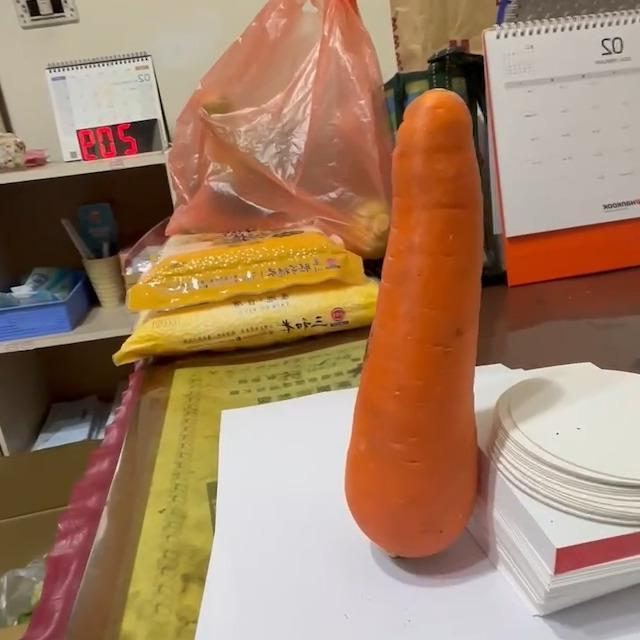carrot: (339, 93, 487, 569)
